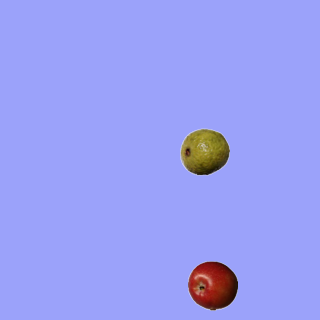Apple Braeburn: (187, 260, 237, 310)
Guava: (179, 126, 229, 176)
